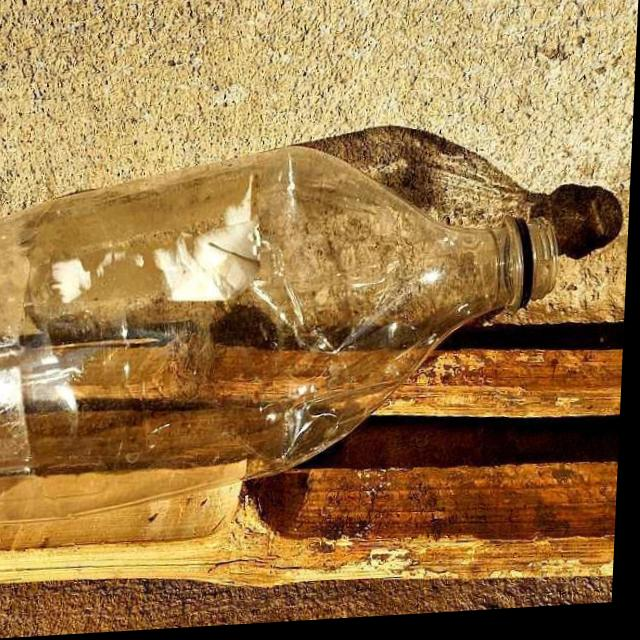Non-biodegradable: (1, 138, 566, 523)
